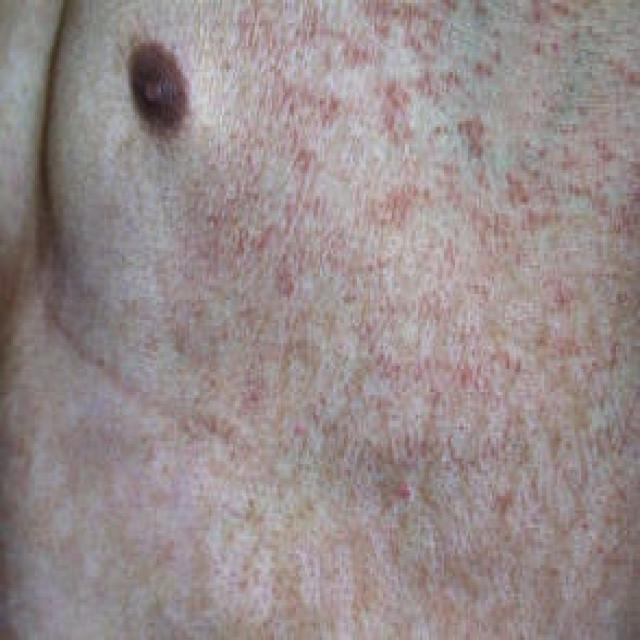Tinea Ringworm Candidiasis and other Fungal Infections: (230, 0, 573, 468)
